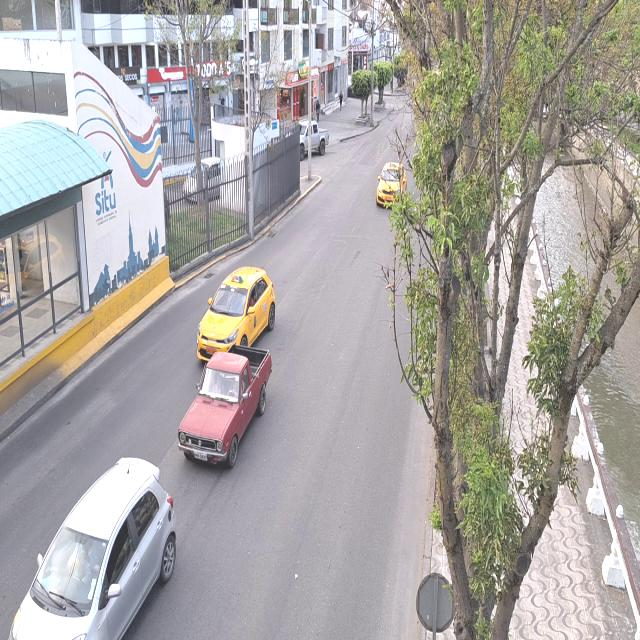CMT: (175, 345, 269, 472), (300, 120, 330, 157)
SED: (9, 454, 178, 639), (196, 265, 276, 363)
